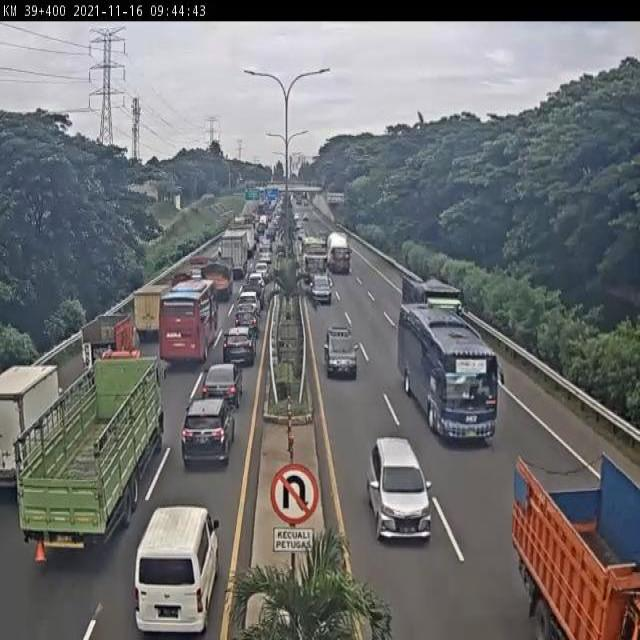big bus: (400, 307, 498, 440), (159, 282, 216, 366)
car: (368, 436, 432, 541), (180, 396, 235, 464), (325, 327, 359, 377), (203, 364, 244, 405), (221, 329, 253, 368), (232, 308, 259, 335), (236, 288, 261, 316)
small bus: (135, 506, 218, 630)
small truck: (132, 285, 170, 344)
truck-l-: (16, 356, 162, 556), (401, 275, 462, 340)
truck-m-: (514, 458, 640, 640), (0, 360, 59, 500), (81, 315, 136, 365), (196, 264, 232, 304)
